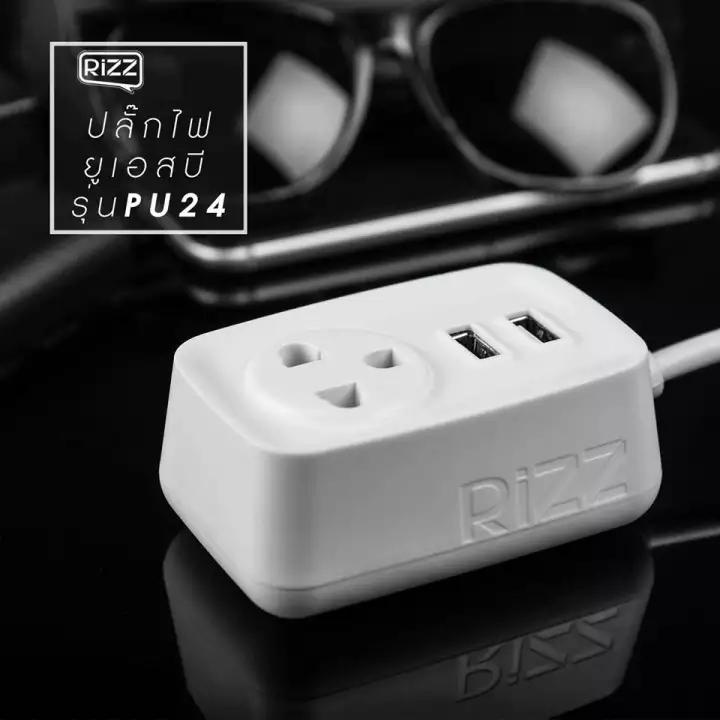Three_eye_plug: (131, 248, 681, 621)
